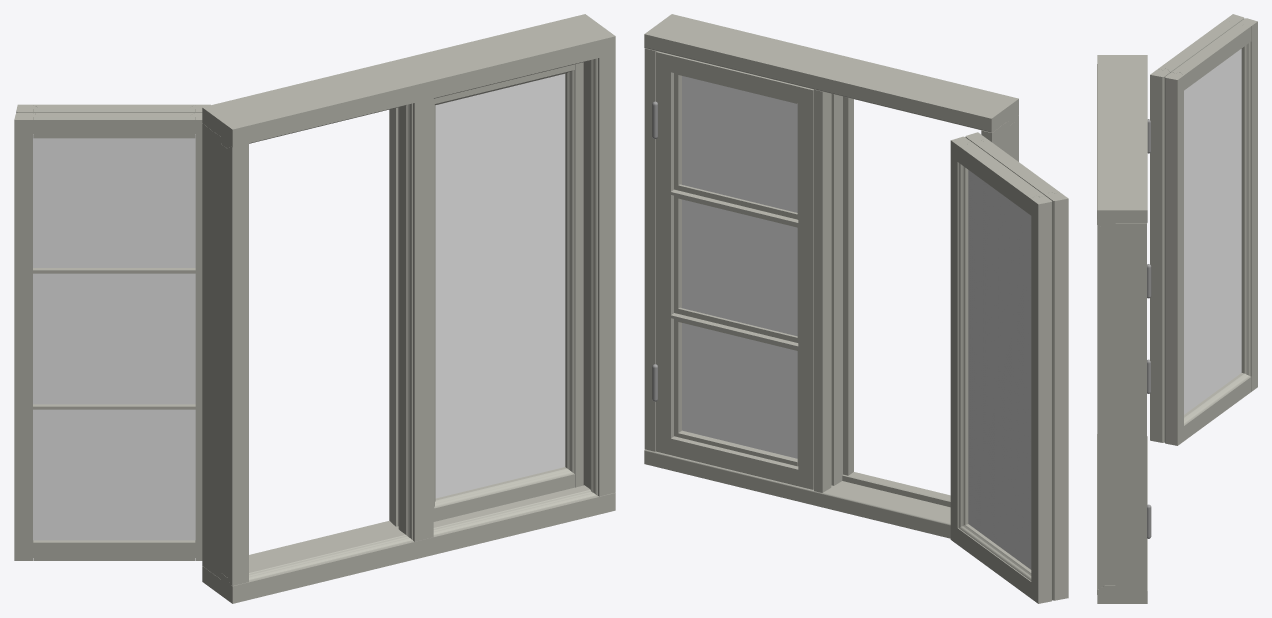
The model's file is alvdalsfonster.glb.
3 views of the same model, side by side, from view 1: azimuth 30°, elevation 25°; view 2: azimuth 150°, elevation 25°; view 3: azimuth 270°, elevation 25° (orthographic). The views are drawn at different scales.
Parts seen in each view (by area): view 1: alvdalsfonster, V_Glas ytter.003, Glas inner, Fönster_V; view 2: alvdalsfonster, Glas inner, Fönster_V, V_Glas inner; view 3: alvdalsfonster, Fönster_V, V_Glas inner.
Part boxes in pixels (x1=…): alvdalsfonster: x1=202, y1=14, x2=615, y2=603; V_Glas ytter.003: x1=33, y1=134, x2=195, y2=540; Glas inner: x1=435, y1=74, x2=565, y2=498; Fönster_V: x1=14, y1=104, x2=210, y2=560; alvdalsfonster: x1=644, y1=14, x2=1018, y2=538; Glas inner: x1=682, y1=76, x2=797, y2=458; Fönster_V: x1=950, y1=132, x2=1068, y2=603; V_Glas inner: x1=968, y1=170, x2=1031, y2=569; alvdalsfonster: x1=1097, y1=55, x2=1147, y2=603; Fönster_V: x1=1150, y1=14, x2=1257, y2=445; V_Glas inner: x1=1184, y1=49, x2=1241, y2=414.
Bounding box in the file's own units: 1.47 × 1.28 × 0.4747.
3 materials, 1 textured.
